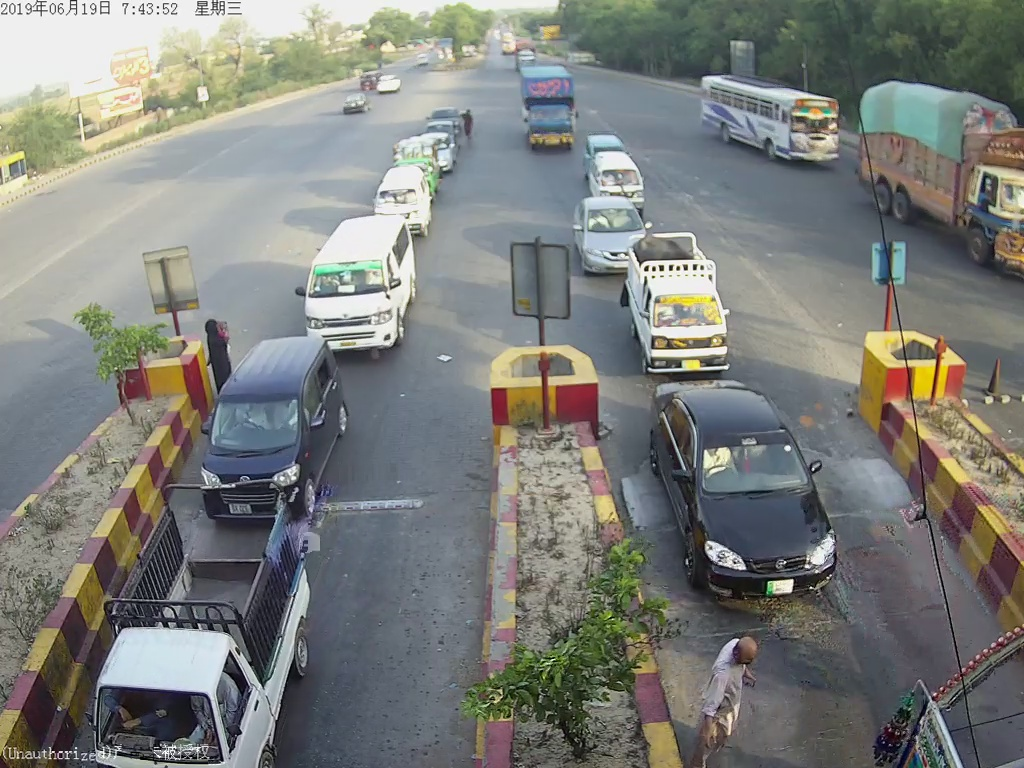Cat-1: (651, 386, 858, 610), (209, 336, 350, 505), (626, 239, 741, 366), (580, 200, 626, 275)
Cat-2: (300, 214, 427, 351)
